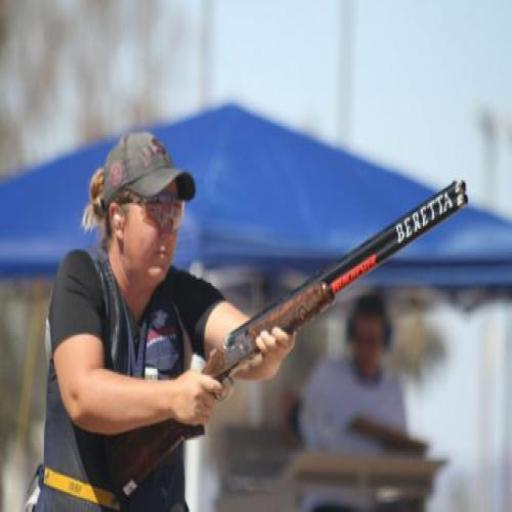shooting: (28, 129, 299, 511)
